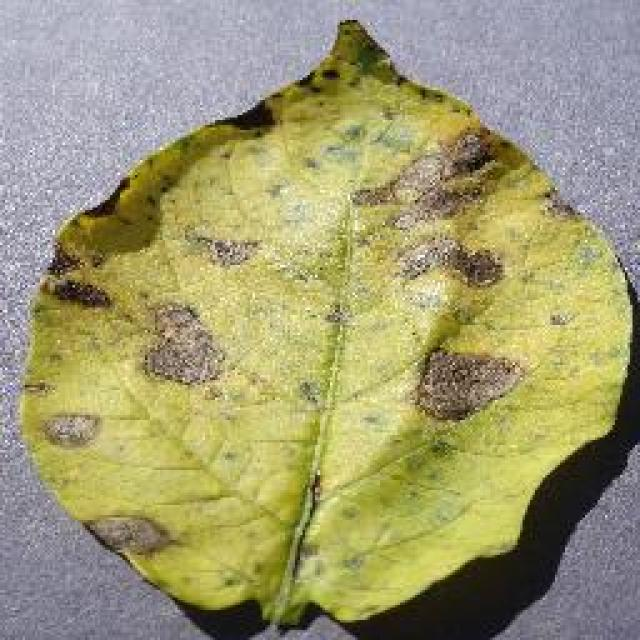early_blight: (12, 15, 638, 633)
